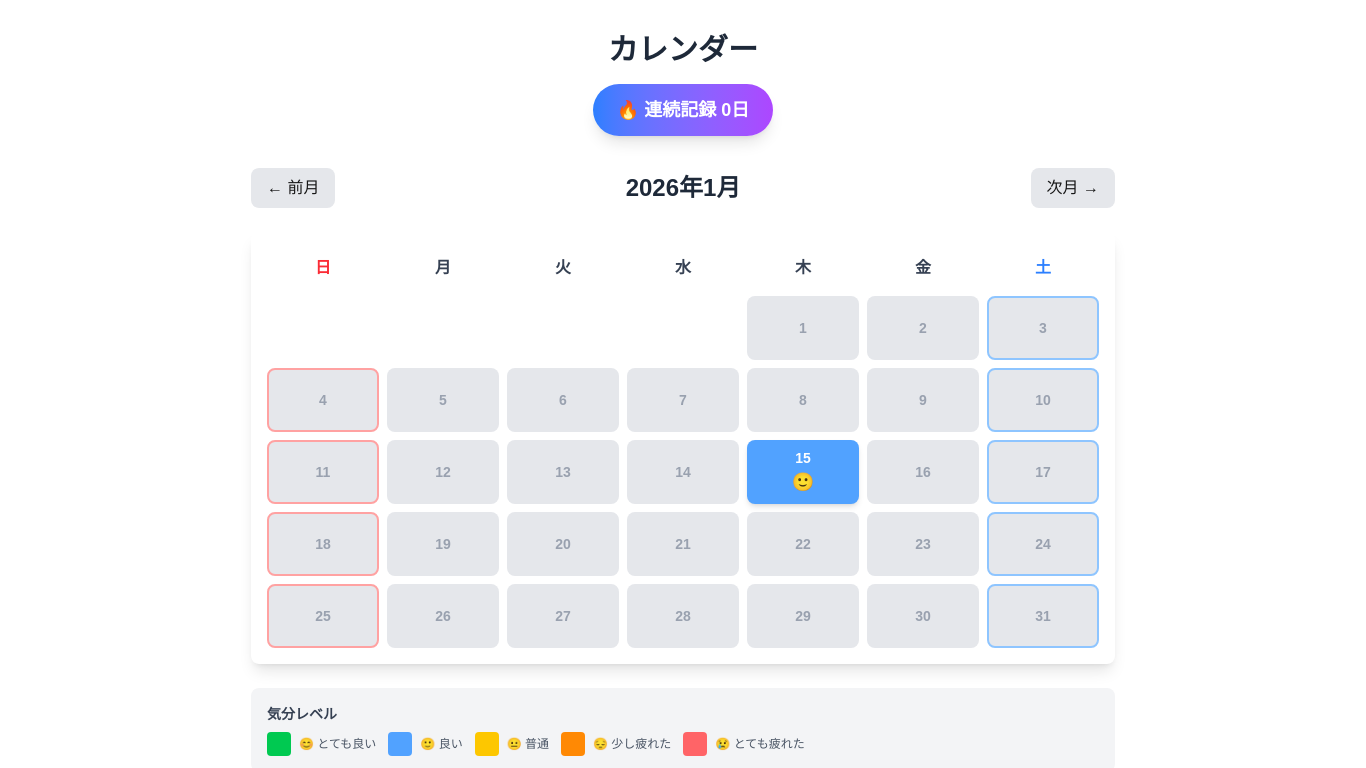
Calendar Modal Flow Integration › 記録詳細表示フロー › 詳細モーダルの閉じるボタンでモーダルが閉じる
Expected: the heading "カレンダー" is shown, left=608, top=33, right=758, bottom=66
Click the button named "15日 記録あり": point(803, 472) left=747, top=440, right=859, bottom=504
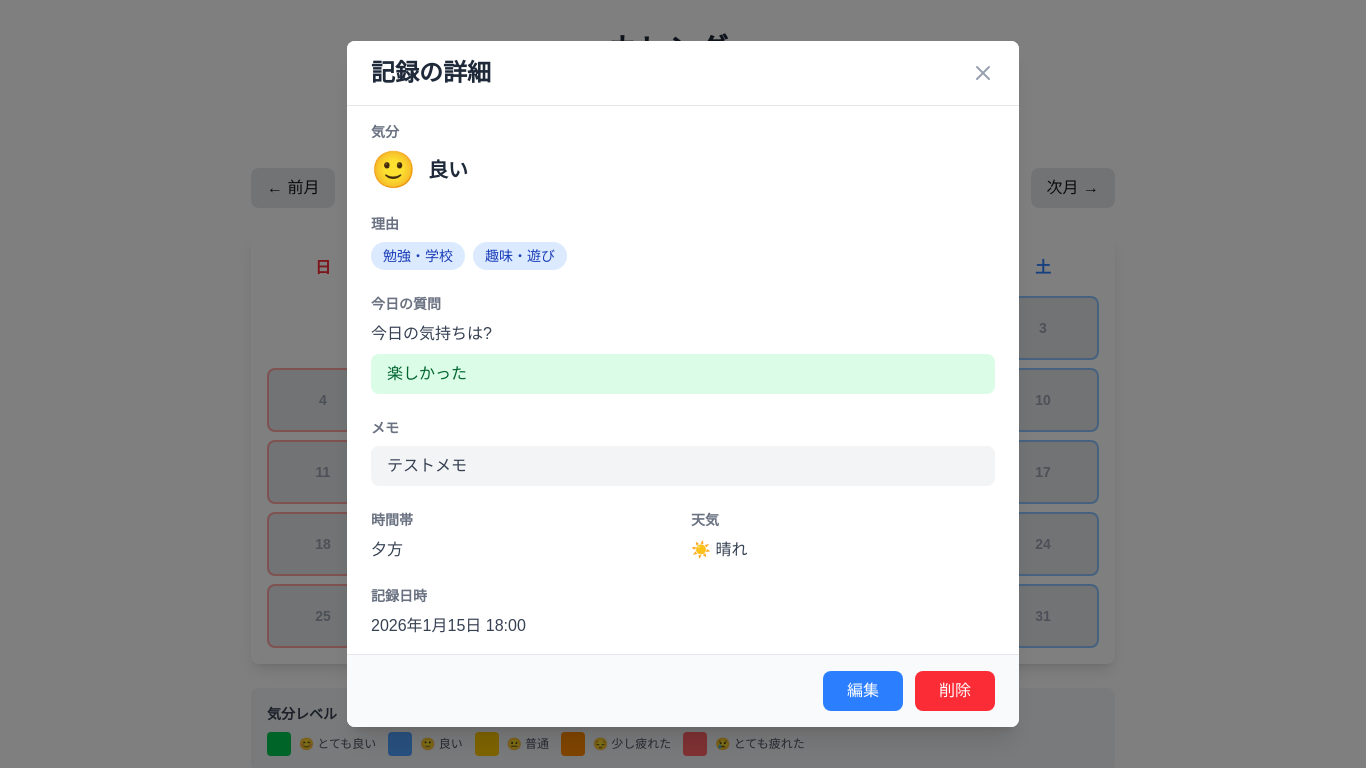
Expected: the heading "記録の詳細" is shown, left=371, top=57, right=491, bottom=89
Click the button named "閉じる": point(983, 73) left=971, top=61, right=995, bottom=85
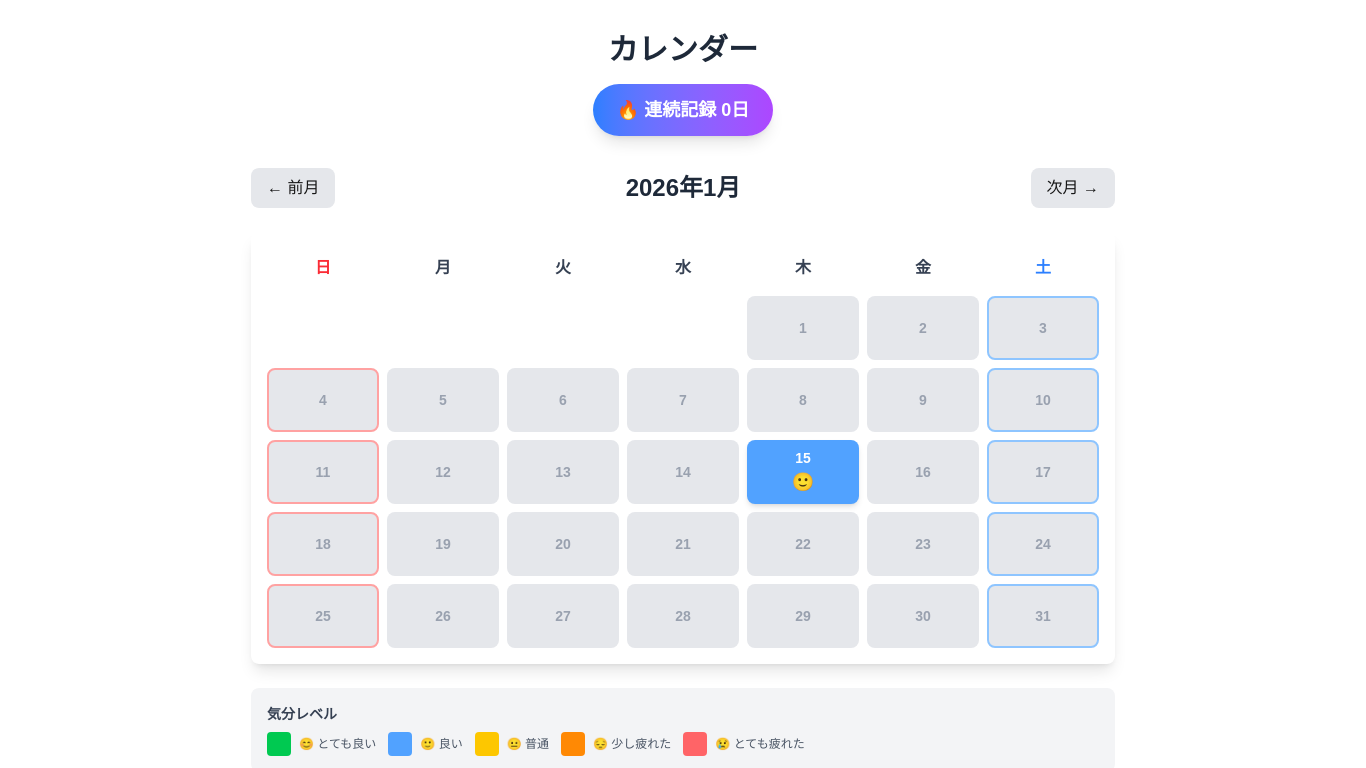
Expected: the heading "記録の詳細" is gone
